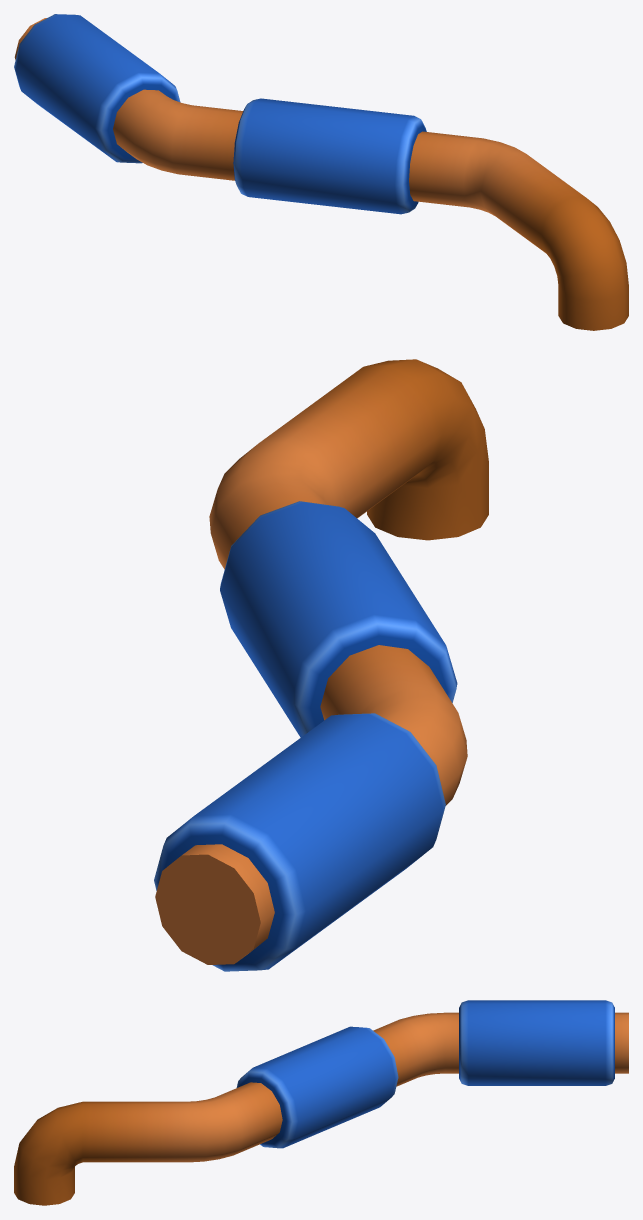
File: pipeside_001.fbx
3 views of the same model, one above another, from view 1: azimuth 30°, elevation 25°; view 2: azimuth 150°, elevation 25°; view 3: azimuth 270°, elevation 25° (orthographic). The views are drawn at different scales.
Visible parts, largest first — view 1: pipeside_001; view 2: pipeside_001; view 3: pipeside_001.
Boxes of the visible parts, <box> form: pipeside_001: <box>14,14,628,330</box>; pipeside_001: <box>154,359,488,971</box>; pipeside_001: <box>14,1000,628,1205</box>.
Bounding box in the file's own units: 729 × 1578 × 283.
